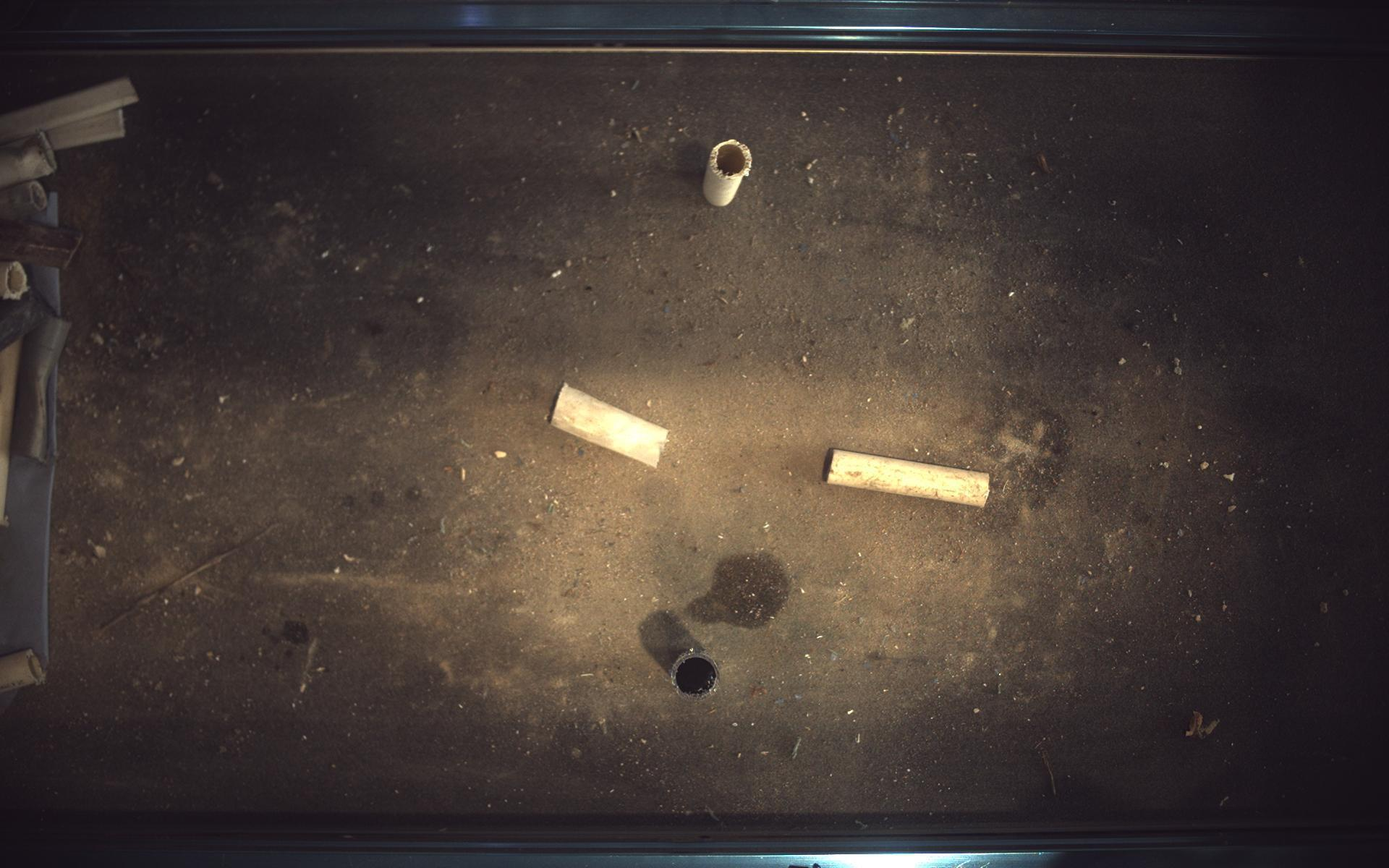pipes: (551, 383, 668, 467), (826, 449, 992, 508), (705, 138, 753, 206), (671, 650, 721, 699)
